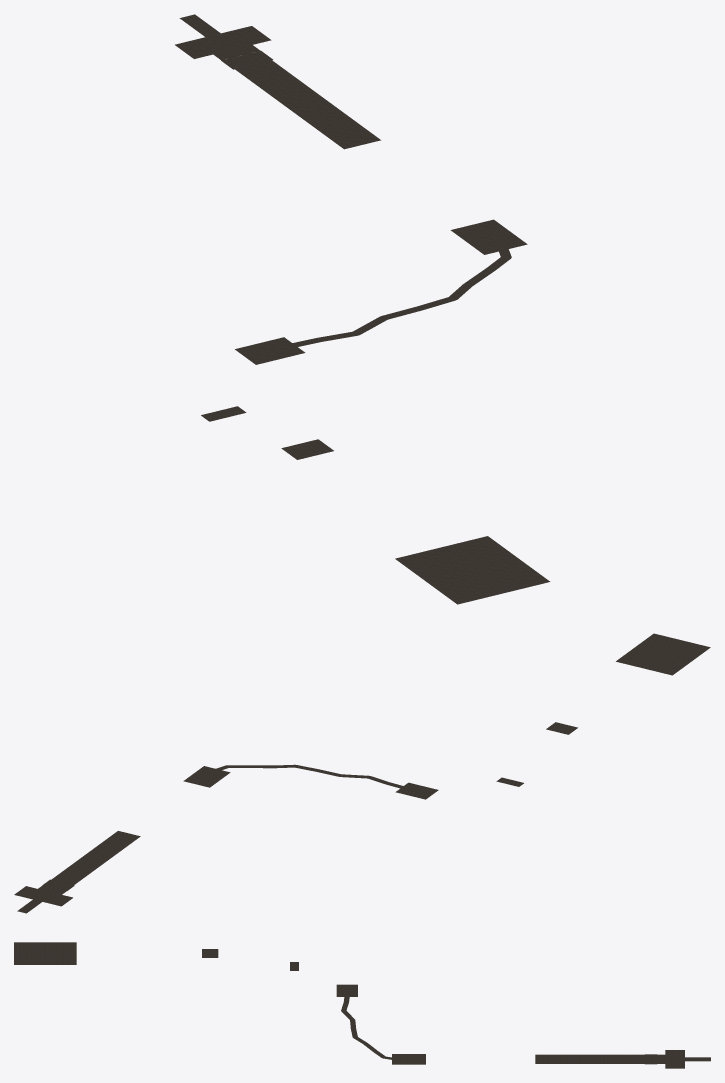
Rendered from floor_stone.glb.
3 renders of one model, top to bottom at view 1: azimuth 30°, elevation 25°; view 2: azimuth 150°, elevation 25°; view 3: azimuth 270°, elevation 25°, orthographic. The views are drawn at different scales.
Parts seen in each view (by area): view 1: floor_stone; view 2: floor_stone; view 3: floor_stone.
Boxes of the visible parts, bbox=[...] form: floor_stone: bbox=[175, 14, 550, 604]; floor_stone: bbox=[14, 633, 710, 913]; floor_stone: bbox=[14, 942, 710, 1068].
Size of the model in its own units: 300 by 16.02 by 778.
1 material, 1 textured.
